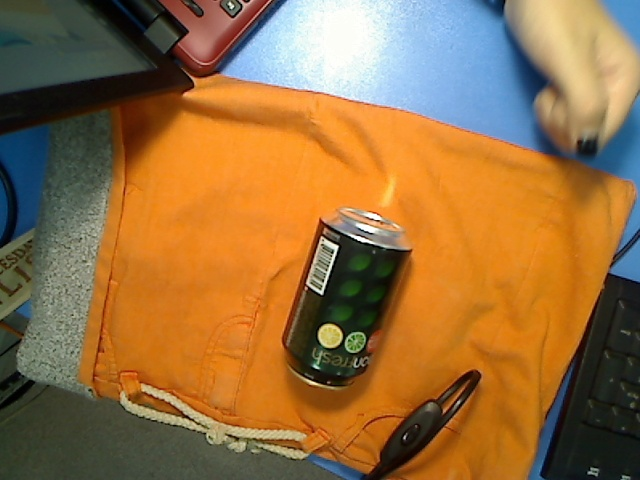can: (280, 205, 415, 393)
